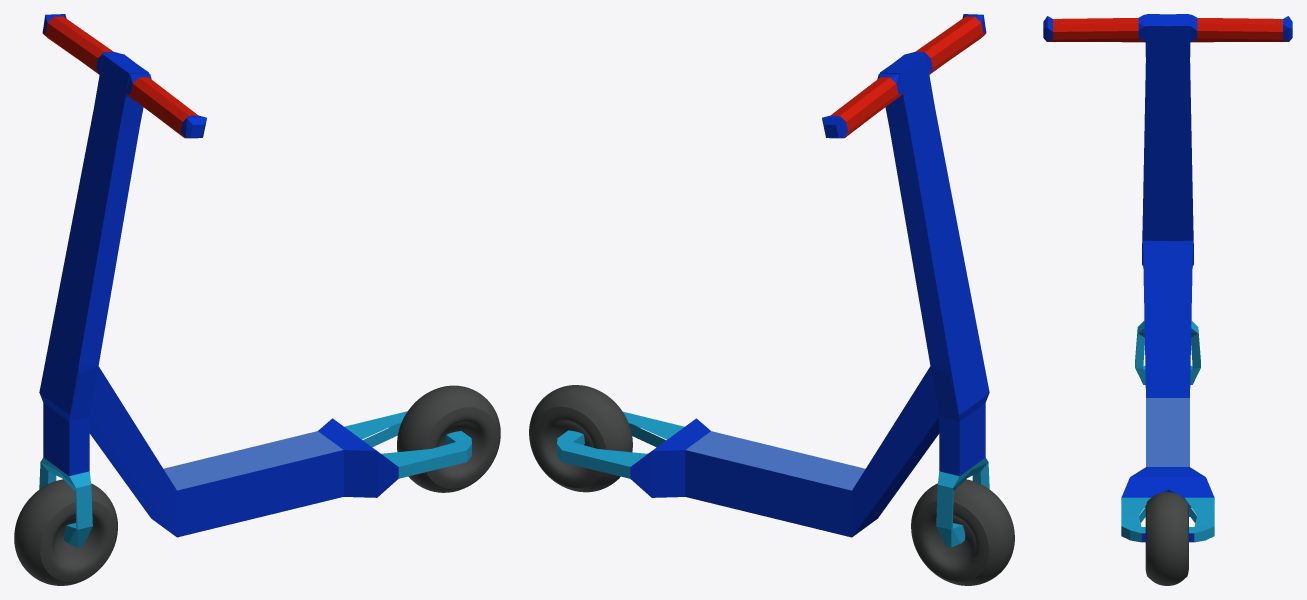
Rendered from Skuter3.fbx.
3 views of the same model, side by side, from view 1: azimuth 30°, elevation 25°; view 2: azimuth 150°, elevation 25°; view 3: azimuth 270°, elevation 25° (orthographic). The views are drawn at different scales.
Visible parts, largest first — view 1: Куб, Окружность.001, Окружность.002; view 2: Куб, Окружность.001, Окружность.002; view 3: Куб, Окружность.002.
Boxes of the visible parts, x1,y1,x2,y2 form: Куб: (39, 14, 471, 547); Окружность.001: (14, 479, 117, 585); Окружность.002: (397, 385, 500, 492); Куб: (557, 14, 989, 547); Окружность.001: (911, 479, 1014, 585); Окружность.002: (529, 385, 632, 492); Куб: (1043, 14, 1292, 542); Окружность.002: (1145, 492, 1188, 585).
Bounding box in the file's own units: 977 × 988 × 519.
